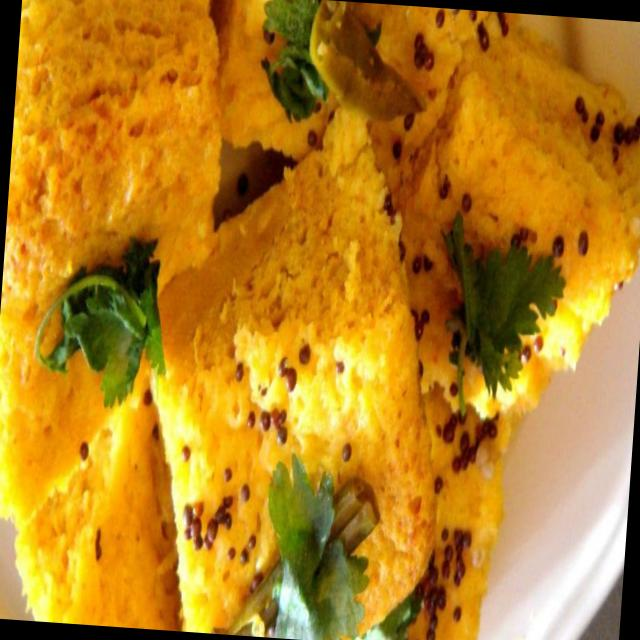dhokla: (0, 0, 619, 613)
